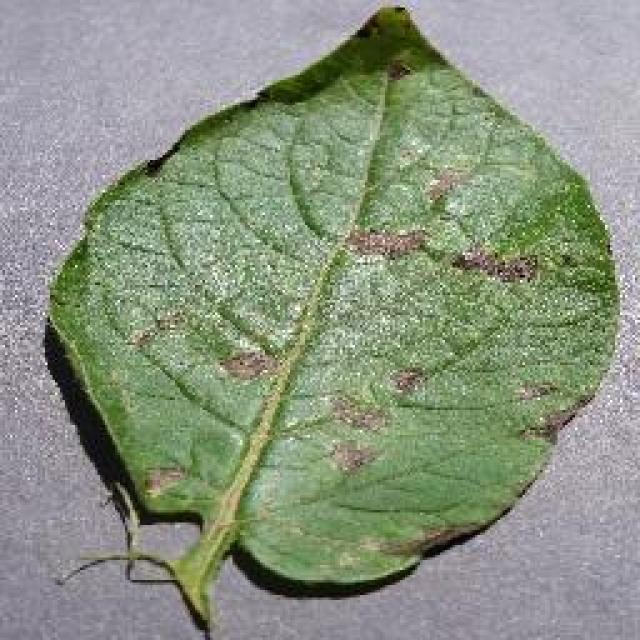early_blight: (40, 2, 625, 628)
